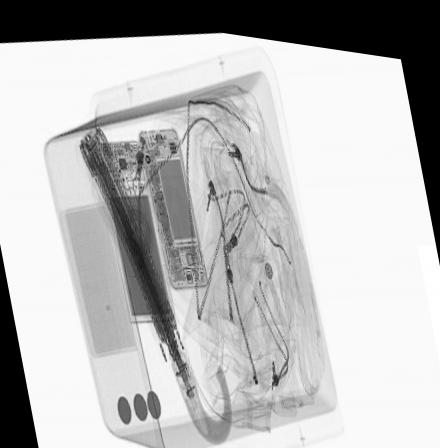Powerbank: (97, 138, 172, 315)
